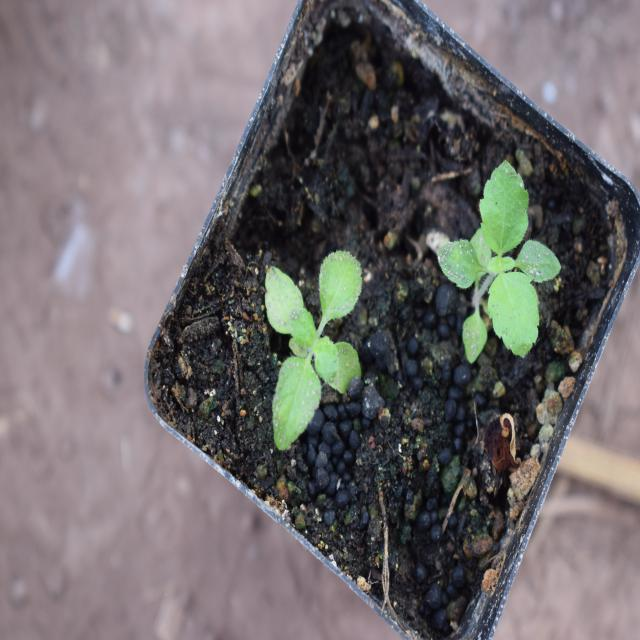billygoat_weed: (440, 162, 572, 390), (257, 244, 371, 460)
